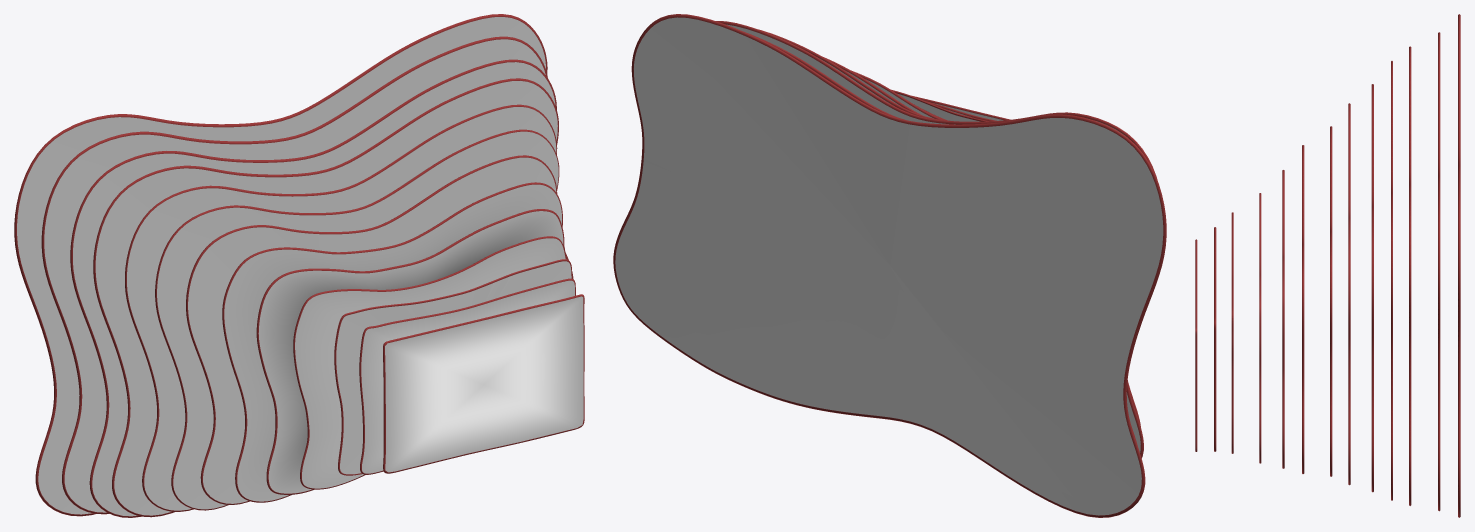
The model's file is Frame5.glb.
3 renders of one model, left to right at view 1: azimuth 30°, elevation 25°; view 2: azimuth 150°, elevation 25°; view 3: azimuth 270°, elevation 25°, orthographic. The views are drawn at different scales.
Visible parts, largest first — view 1: pasted__pasted__pasted__pasted__pasted__pasted__pasted__d90f; view 2: pasted__pasted__pasted__pasted__pasted__pasted__pasted__d90f; view 3: pasted__pasted__pasted__pasted__pasted__pasted__pasted__d90f.
Part boxes in pixels (x1,y1,x2,y2): pasted__pasted__pasted__pasted__pasted__pasted__pasted__d90f: [14, 14, 584, 517]; pasted__pasted__pasted__pasted__pasted__pasted__pasted__d90f: [613, 14, 1166, 517]; pasted__pasted__pasted__pasted__pasted__pasted__pasted__d90f: [1195, 14, 1460, 517].
Size of the model in its own units: 0.6349 by 0.4442 by 0.2837.
